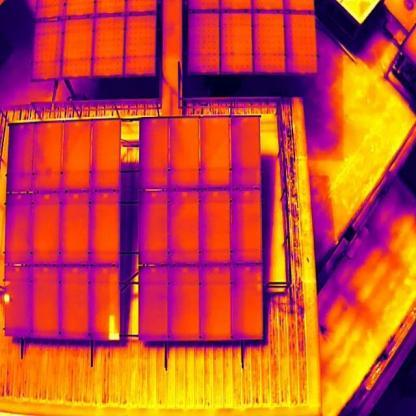anomaly: (106, 313, 121, 343), (3, 291, 13, 305)
